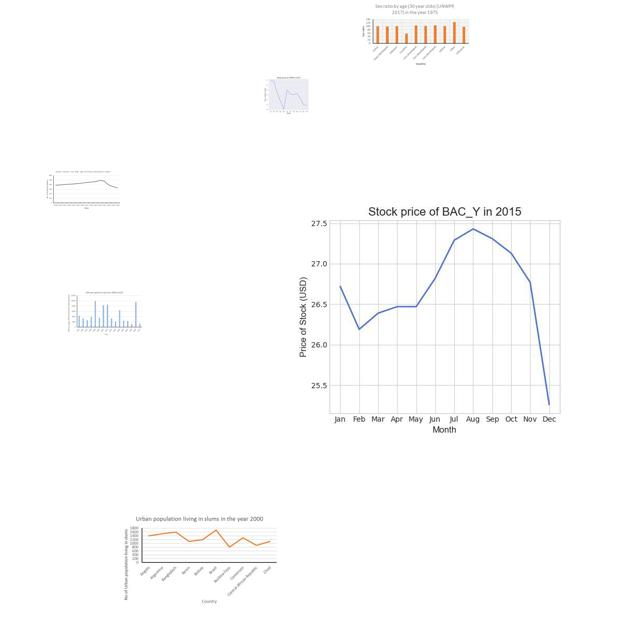Graph: (273, 190, 608, 441), (121, 514, 279, 605), (359, 2, 470, 67), (67, 290, 143, 336), (45, 169, 121, 211), (258, 74, 318, 115)
